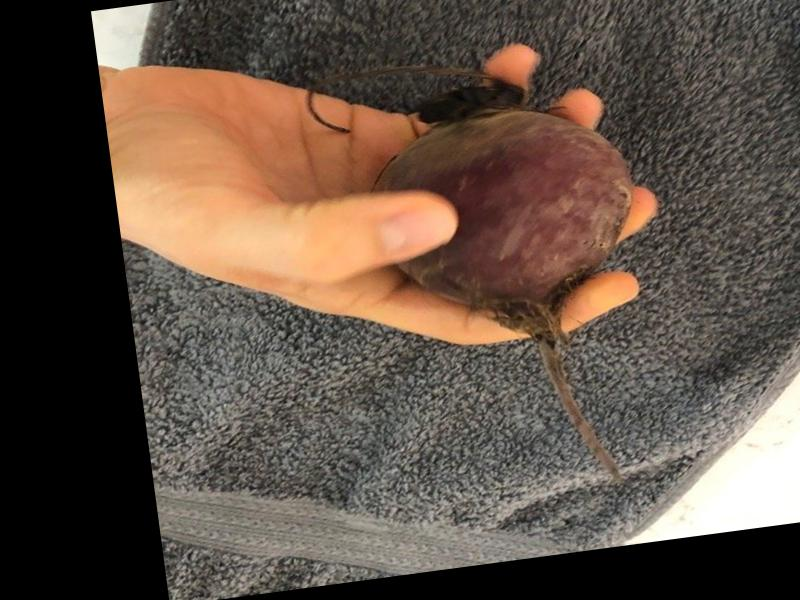Beet: (359, 68, 671, 513)
